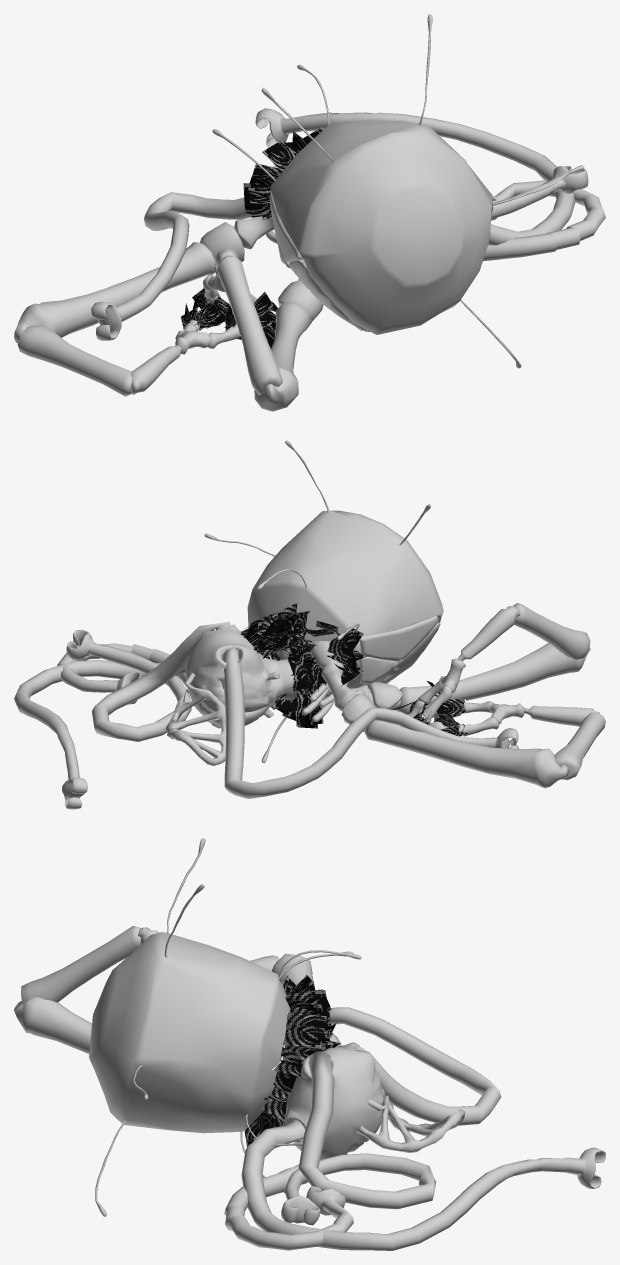
File: scp_Wrk_Death-pose_Mesh.fbx
3 renders of one model, top to bottom at view 1: azimuth 30°, elevation 25°; view 2: azimuth 150°, elevation 25°; view 3: azimuth 270°, elevation 25°, orthographic. The views are drawn at different scales.
Parts seen in each view (by area): view 1: scifopodWorker_LOD0; view 2: scifopodWorker_LOD0; view 3: scifopodWorker_LOD0.
Part boxes in pixels (<box>): scifopodWorker_LOD0: <box>14,14,605,411</box>; scifopodWorker_LOD0: <box>14,440,605,809</box>; scifopodWorker_LOD0: <box>14,838,605,1250</box>.
Size of what is drawn, in the model's own units: 252 by 136 by 226.
